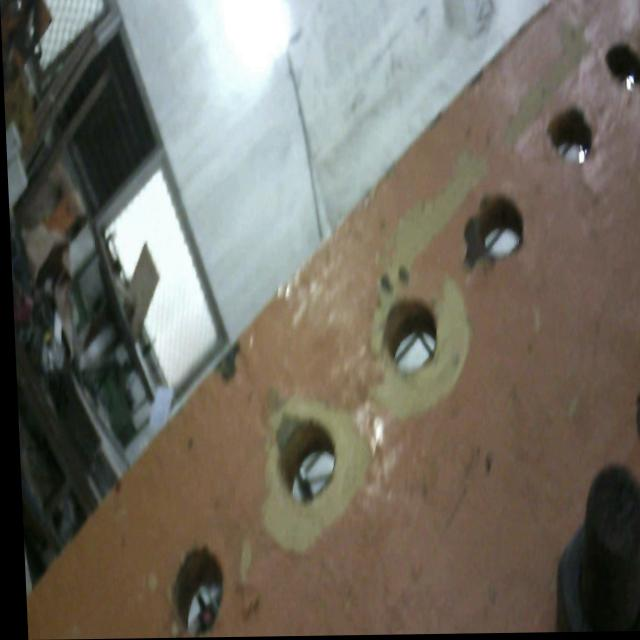Missing bolt: (273, 414, 333, 510), (163, 543, 224, 635), (381, 294, 440, 377), (477, 194, 523, 259), (548, 102, 594, 165), (603, 45, 640, 98)
